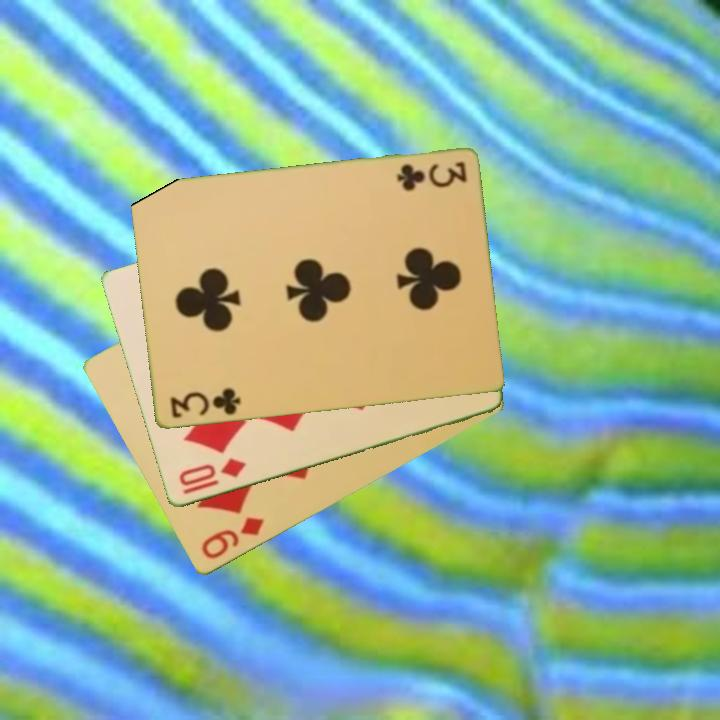10d: (175, 454, 249, 498)
3c: (166, 385, 243, 421), (392, 158, 470, 192)
9d: (197, 513, 267, 563)
